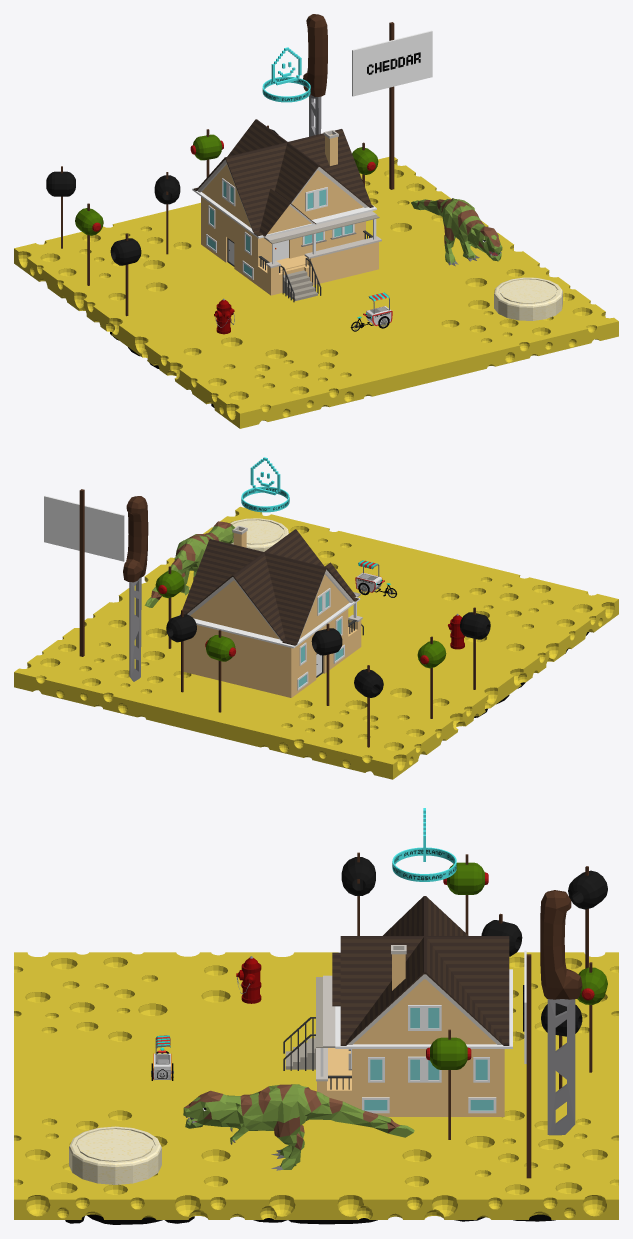
3 views of the same model, one above another, from view 1: azimuth 30°, elevation 25°; view 2: azimuth 150°, elevation 25°; view 3: azimuth 270°, elevation 25° (orthographic). The views are drawn at different scales.
Parts seen in each view (by area): view 1: Cube.022, Cube.235, Cube.023, ANIMAL_TREX, Cylinder.016, Cube.024, TYPE_PREMIUM, Sphere.017, Sphere.016, Sphere.020, Sphere.018, Sphere.022 (+2 smaller); view 2: Cube.022, Cube.235, Cube.023, Cube.024, ANIMAL_TREX, Cylinder.016, TYPE_PREMIUM, Sphere.020, Sphere.022, Sphere.017, Sphere.021, Sphere.016 (+3 smaller); view 3: Cube.022, Cube.235, ANIMAL_TREX, Cube.024, Cylinder.016, Cube.023, Sphere.019, Sphere.016, Sphere.018, TYPE_PREMIUM, Sphere.017, Curve.014 (+5 smaller).
Part boxes in pixels (left/top/right/bottom): Cube.022: left=14, top=157, right=618, bottom=428; Cube.235: left=192, top=119, right=381, bottom=302; Cube.023: left=352, top=22, right=432, bottom=189; ANIMAL_TREX: left=411, top=198, right=502, bottom=266; Cylinder.016: left=494, top=277, right=562, bottom=320; Cube.024: left=303, top=14, right=327, bottom=136; TYPE_PREMIUM: left=262, top=47, right=310, bottom=102; Sphere.017: left=110, top=233, right=141, bottom=316; Sphere.016: left=46, top=166, right=75, bottom=248; Sphere.020: left=154, top=172, right=180, bottom=254; Sphere.018: left=75, top=203, right=103, bottom=285; Sphere.022: left=190, top=129, right=223, bottom=177; Cube.022: left=14, top=506, right=618, bottom=779; Cube.235: left=179, top=525, right=363, bottom=697; Cube.023: left=44, top=489, right=124, bottom=656; Cube.024: left=123, top=496, right=148, bottom=681; ANIMAL_TREX: left=144, top=521, right=235, bottom=607; Cylinder.016: left=230, top=518, right=288, bottom=551; TYPE_PREMIUM: left=241, top=457, right=289, bottom=512; Sphere.020: left=311, top=623, right=342, bottom=705; Sphere.022: left=205, top=630, right=235, bottom=712; Sphere.017: left=460, top=607, right=490, bottom=689; Sphere.021: left=166, top=610, right=196, bottom=692; Sphere.016: left=354, top=665, right=383, bottom=747; Cube.022: left=14, top=952, right=618, bottom=1219; Cube.235: left=283, top=896, right=512, bottom=1116; ANIMAL_TREX: left=183, top=1084, right=414, bottom=1170; Cube.024: left=540, top=890, right=582, bottom=1135; Cylinder.016: left=69, top=1126, right=161, bottom=1184; Cube.023: left=523, top=950, right=531, bottom=1178; Sphere.019: left=426, top=1029, right=471, bottom=1139; Sphere.016: left=568, top=866, right=607, bottom=968; Sphere.018: left=443, top=854, right=488, bottom=934; TYPE_PREMIUM: left=392, top=808, right=456, bottom=881; Sphere.017: left=341, top=852, right=375, bottom=935; Curve.014: left=65, top=1214, right=555, bottom=1224.
Bounding box in the file's own units: 3917 × 2197 × 4000.
39 materials, 4 textured.
